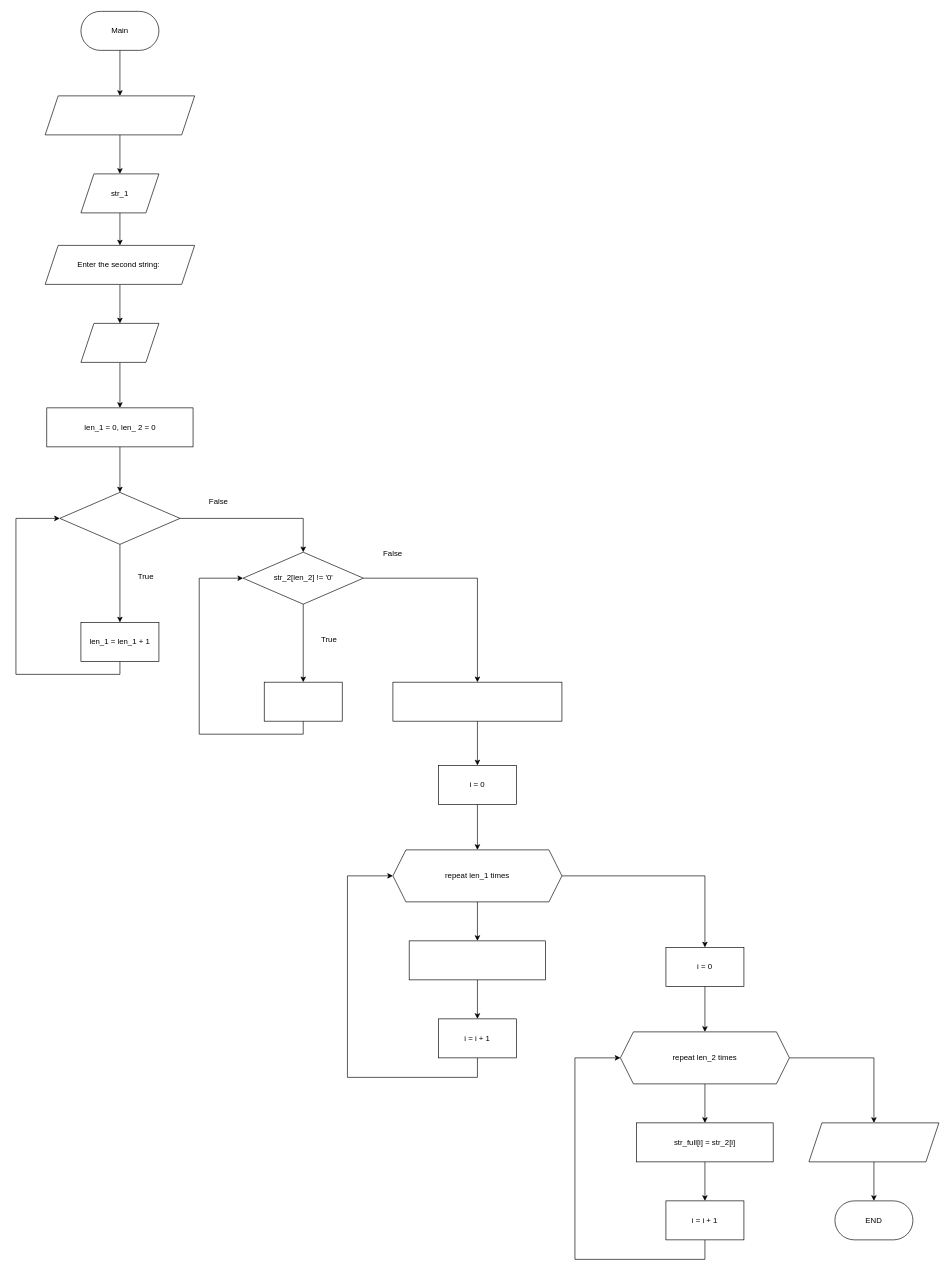
This 950x1276 diagram has some shape labels left out. Each missing label, with the centre of its shape:
"Concatenaded String: `str_full`" goes at point 873,1142.
"Enter the first string:" goes at point 120,115.
"len_2 = len_2 + 1" goes at point 303,701.
"str_1[len_1] != '0'" goes at point 119,518.
"str_2" goes at point 119,342.
"str_full <-- string with size (len_1 + len_ 2)" goes at point 477,701.
"str_full[i] = str_1[i]" goes at point 477,960.
